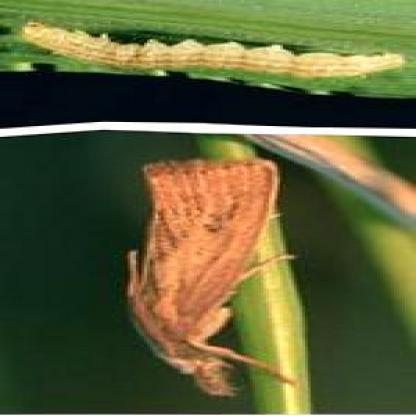stem-borer: (118, 157, 302, 398)
